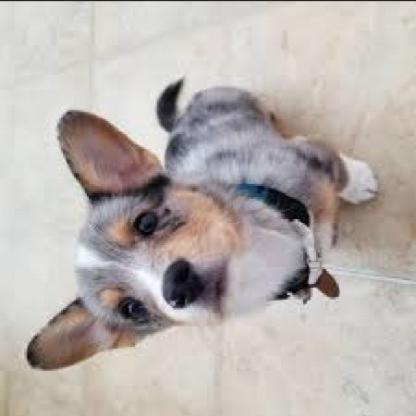dog: (26, 77, 378, 370), (155, 76, 379, 252)
